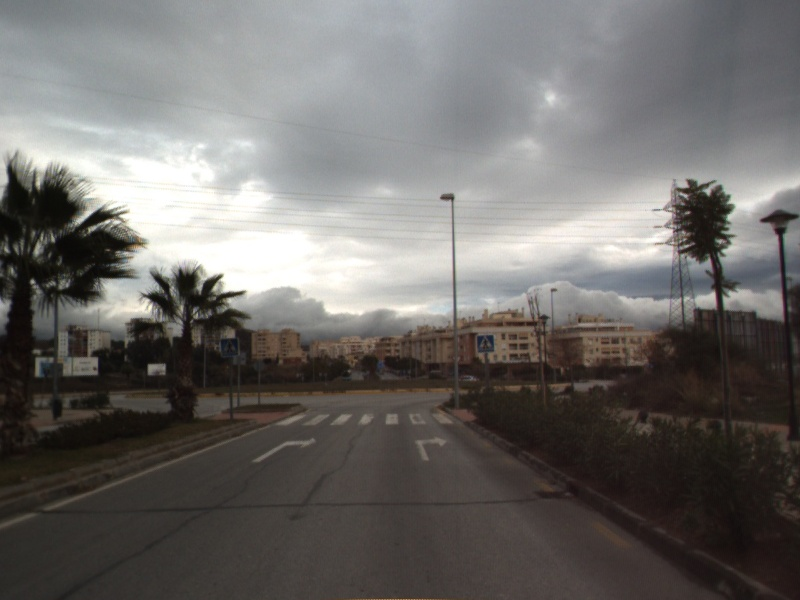RIGHT: (250, 435, 319, 464), (413, 434, 450, 462)
